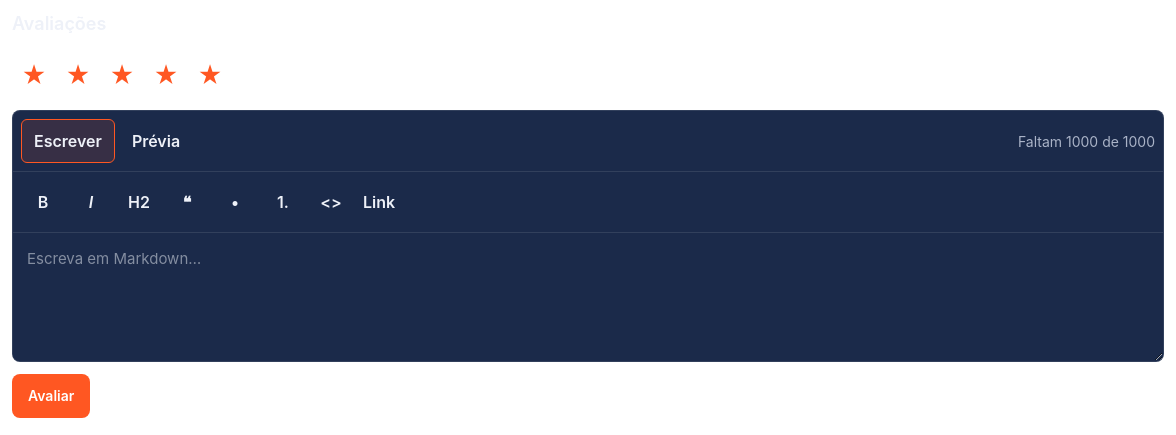
Test: RatingSection › distingue estrela escolhida por preenchimento, nao so por cor
The image size is (1176, 435).
Click the radio button named "3 de 5 estrelas". click: (122, 76)
box: [100,54,144,98]
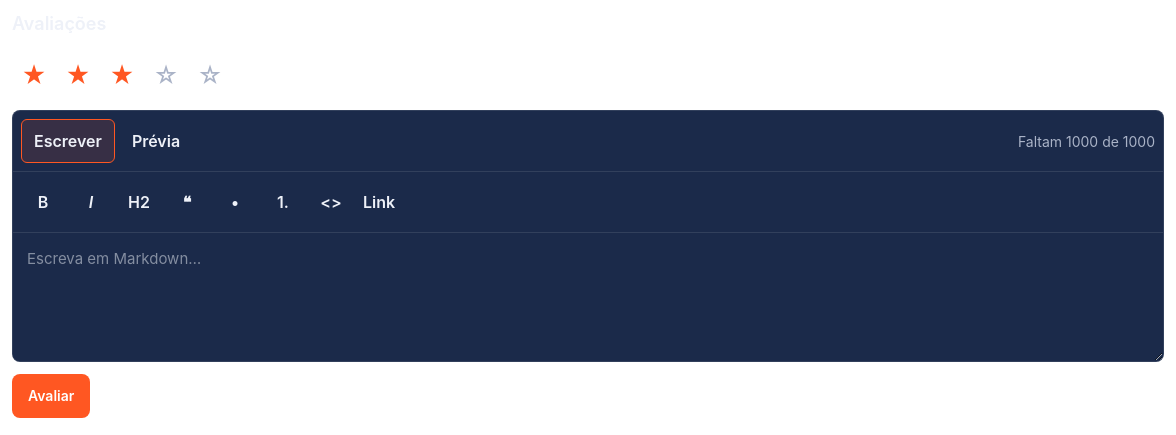
Result: the radio button named "5 de 5 estrelas" reads "☆" at [188,54,232,98]
